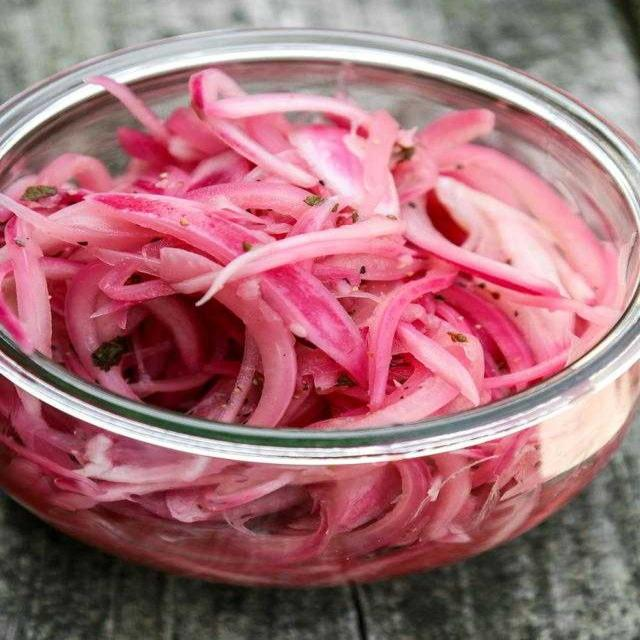onion: (1, 65, 622, 572)
